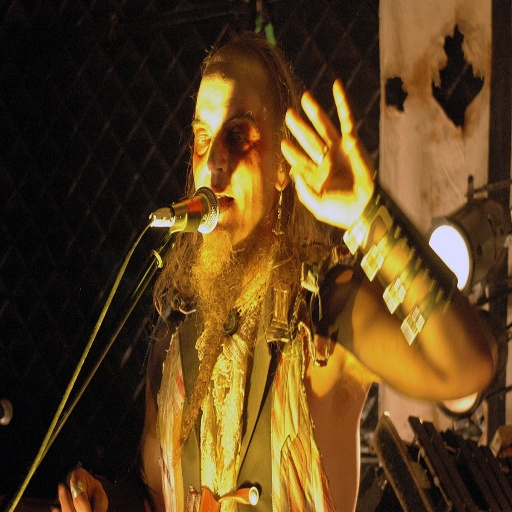hand: (280, 83, 384, 220), (47, 467, 109, 511)
